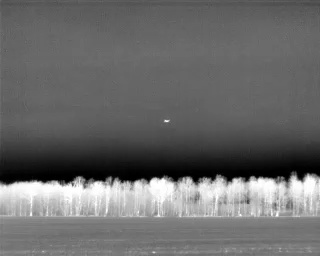DRONE: (161, 115, 173, 126)
